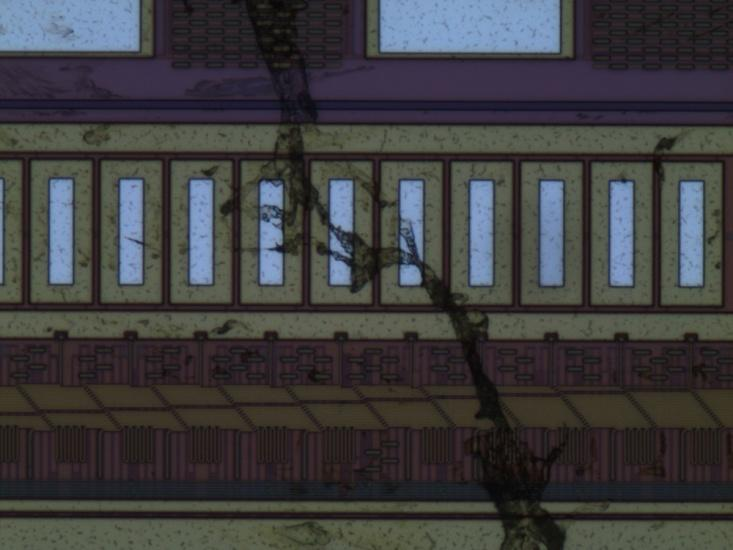SCRATCH: (219, 1, 614, 550)
